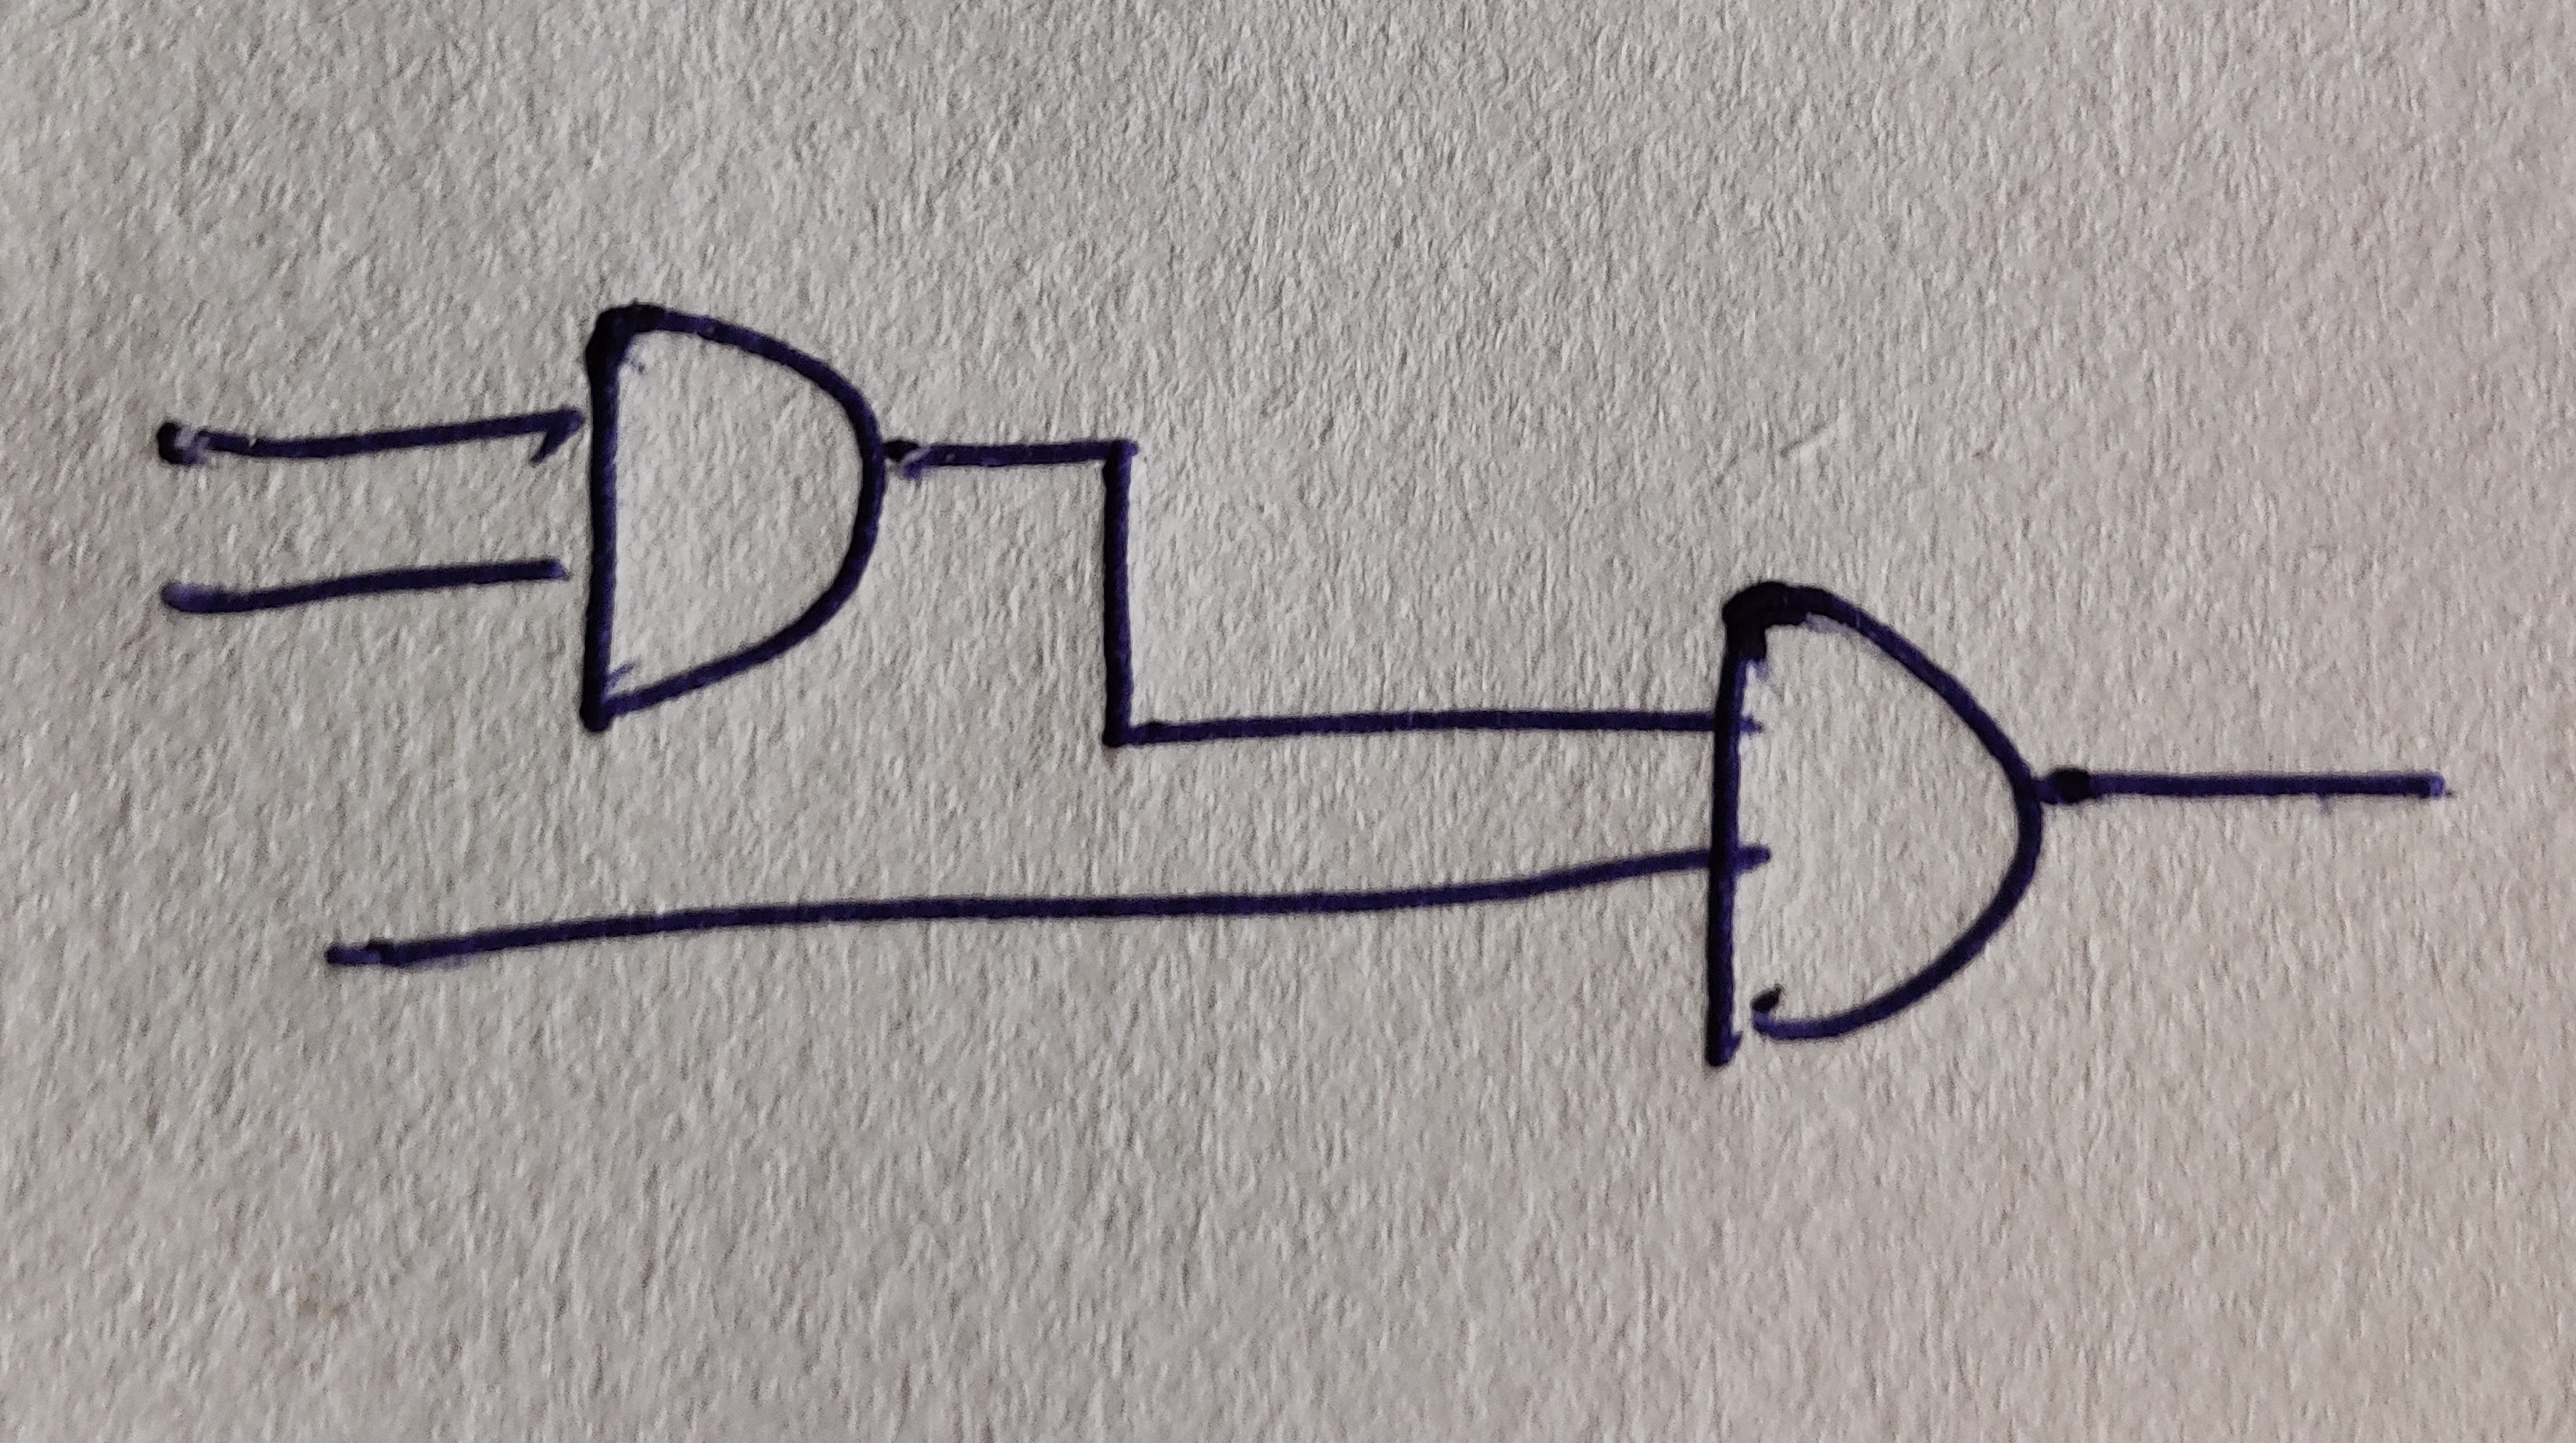and: (1704, 580, 2045, 1068), (582, 304, 883, 736)
